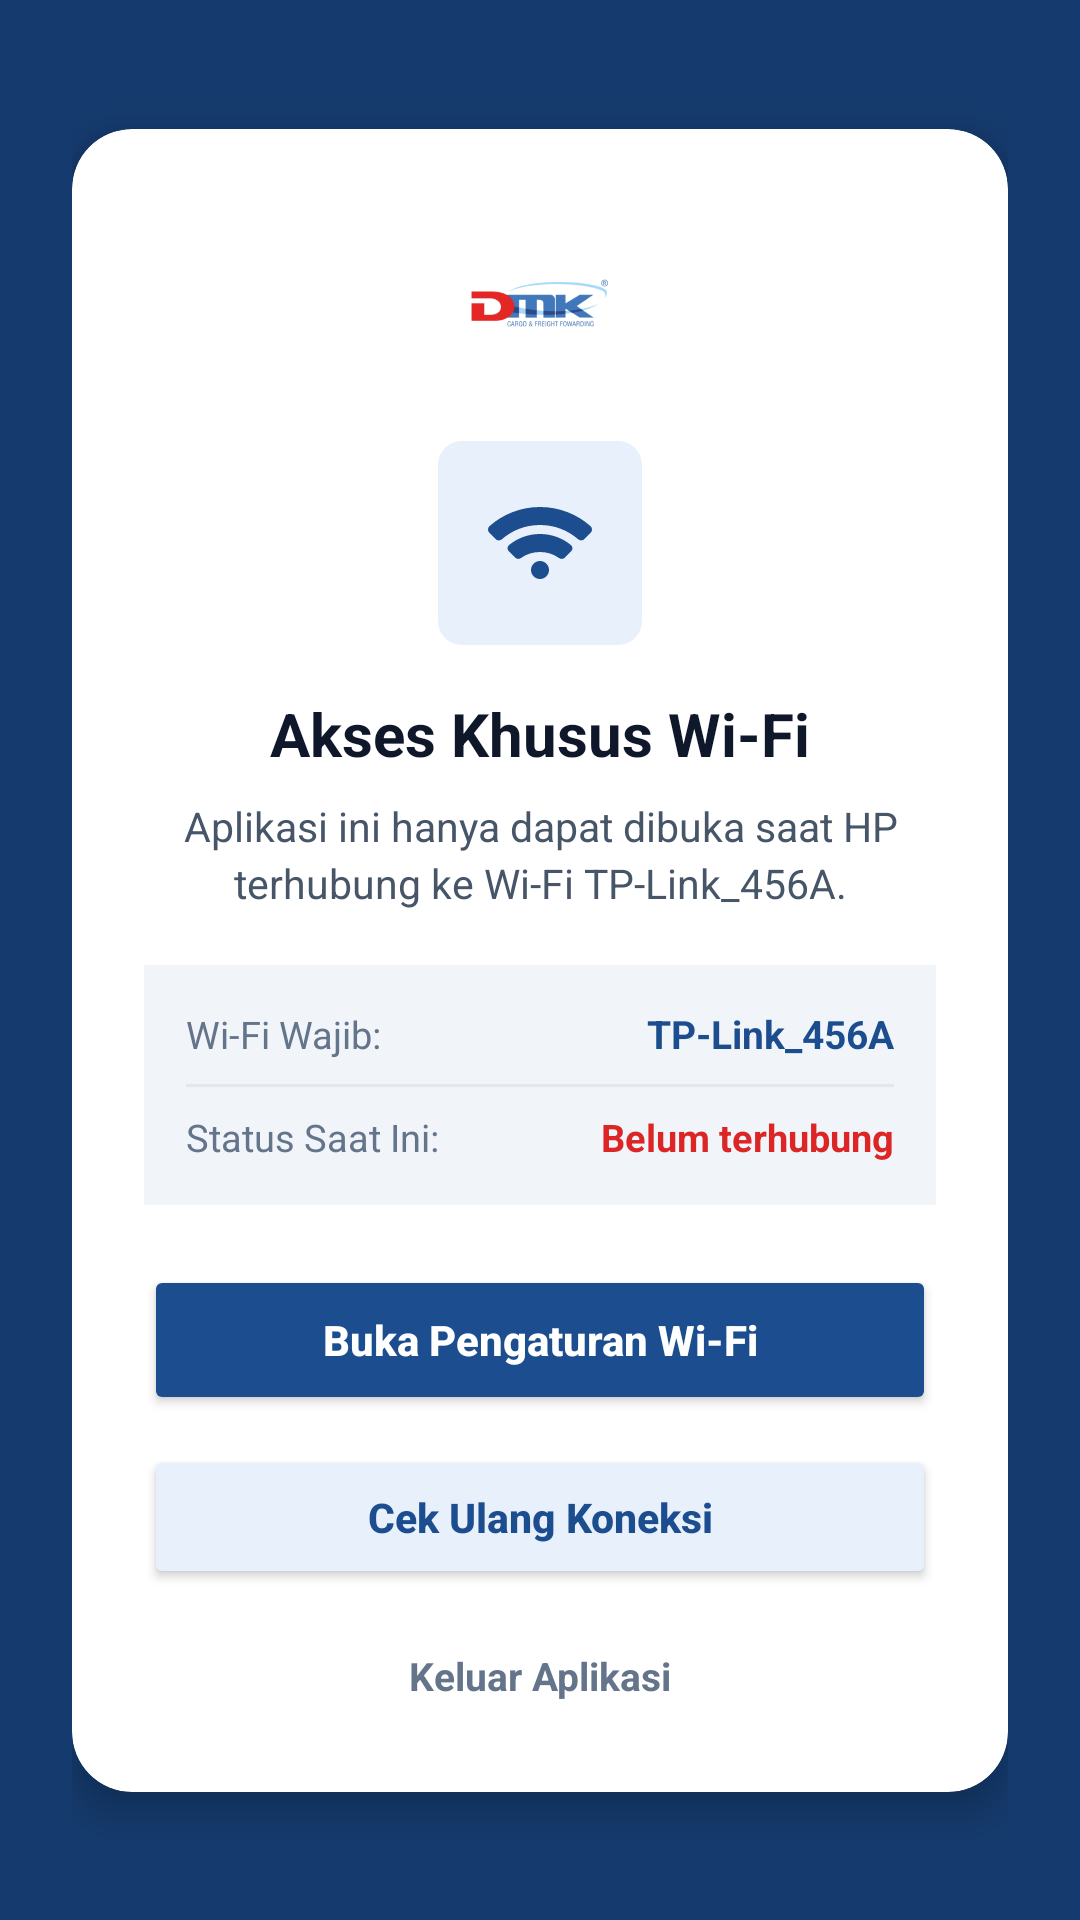

Named icons in this screenshot (1080px×1920px) and their centers, point (x, y):
Ikon Wi-Fi: point (540, 543)
